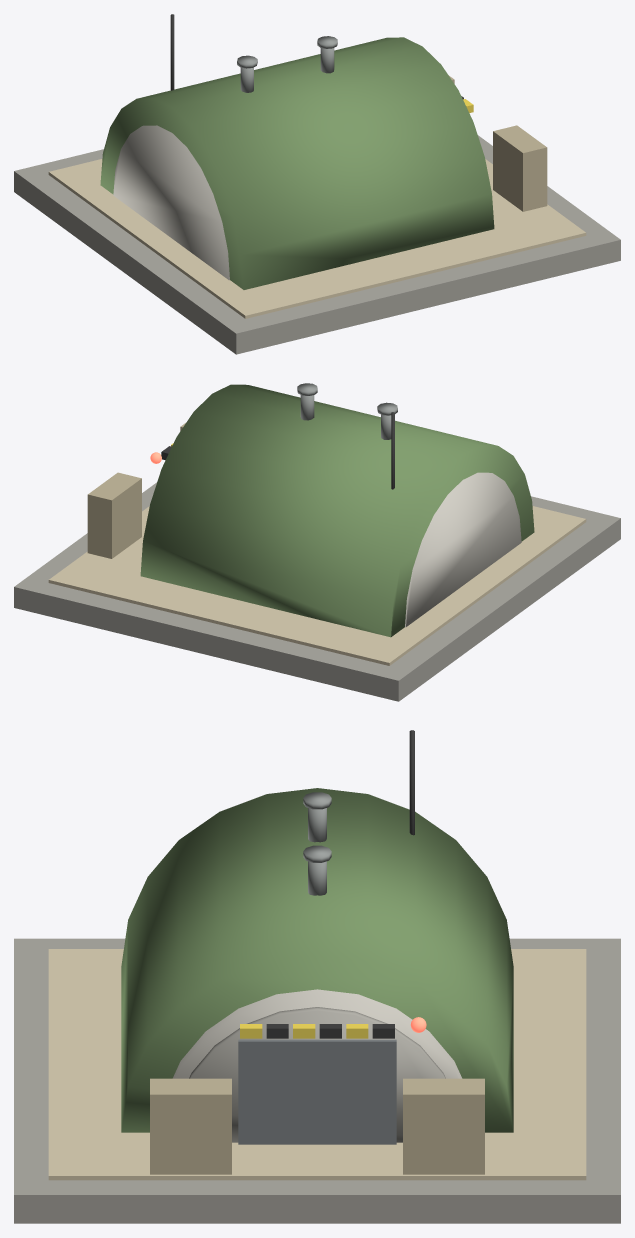
The model's file is hideout.glb.
3 renders of one model, top to bottom at view 1: azimuth 30°, elevation 25°; view 2: azimuth 150°, elevation 25°; view 3: azimuth 270°, elevation 25°, orthographic. The views are drawn at different scales.
Parts seen in each view (by area): view 1: Cylinder, Cube, Cube.001, Cylinder.001, Cube.011, Cube.009, Cube.010; view 2: Cylinder, Cube, Cube.001, Cylinder.001, Cube.014, Cube.013, Cube.012; view 3: Cylinder, Cube, Cube.001, Cube.002, Cylinder.002, Cylinder.001, Cube.011, Cube.014, Cube.009, Cube.012, Cube.010, Cube.013.
Boxes of the visible parts, left/top/right/bottom form: Cylinder: left=100, top=37, right=494, bottom=289; Cube: left=14, top=135, right=620, bottom=354; Cube.001: left=48, top=159, right=586, bottom=318; Cylinder.001: left=113, top=125, right=229, bottom=280; Cube.011: left=493, top=125, right=547, bottom=173; Cube.009: left=493, top=169, right=547, bottom=211; Cube.010: left=493, top=151, right=547, bottom=192; Cylinder: left=140, top=384, right=534, bottom=637; Cube: left=14, top=482, right=620, bottom=701; Cube.001: left=48, top=506, right=586, bottom=665; Cylinder.001: left=405, top=472, right=521, bottom=627; Cube.014: left=87, top=472, right=141, bottom=518; Cube.013: left=87, top=497, right=141, bottom=539; Cube.012: left=87, top=516, right=141, bottom=558; Cylinder: left=121, top=788, right=513, bottom=1132; Cube: left=14, top=938, right=620, bottom=1223; Cube.001: left=48, top=949, right=586, bottom=1180; Cube.002: left=238, top=1039, right=396, bottom=1144; Cylinder.002: left=189, top=1007, right=445, bottom=1142; Cylinder.001: left=172, top=989, right=462, bottom=1078; Cube.011: left=150, top=1078, right=231, bottom=1123; Cube.014: left=403, top=1078, right=484, bottom=1123; Cube.009: left=150, top=1146, right=231, bottom=1174; Cube.012: left=403, top=1146, right=484, bottom=1174; Cube.010: left=150, top=1120, right=231, bottom=1148; Cube.013: left=403, top=1120, right=484, bottom=1148.
Size of the model in its own units: 1.92 by 1.01 by 1.92.
